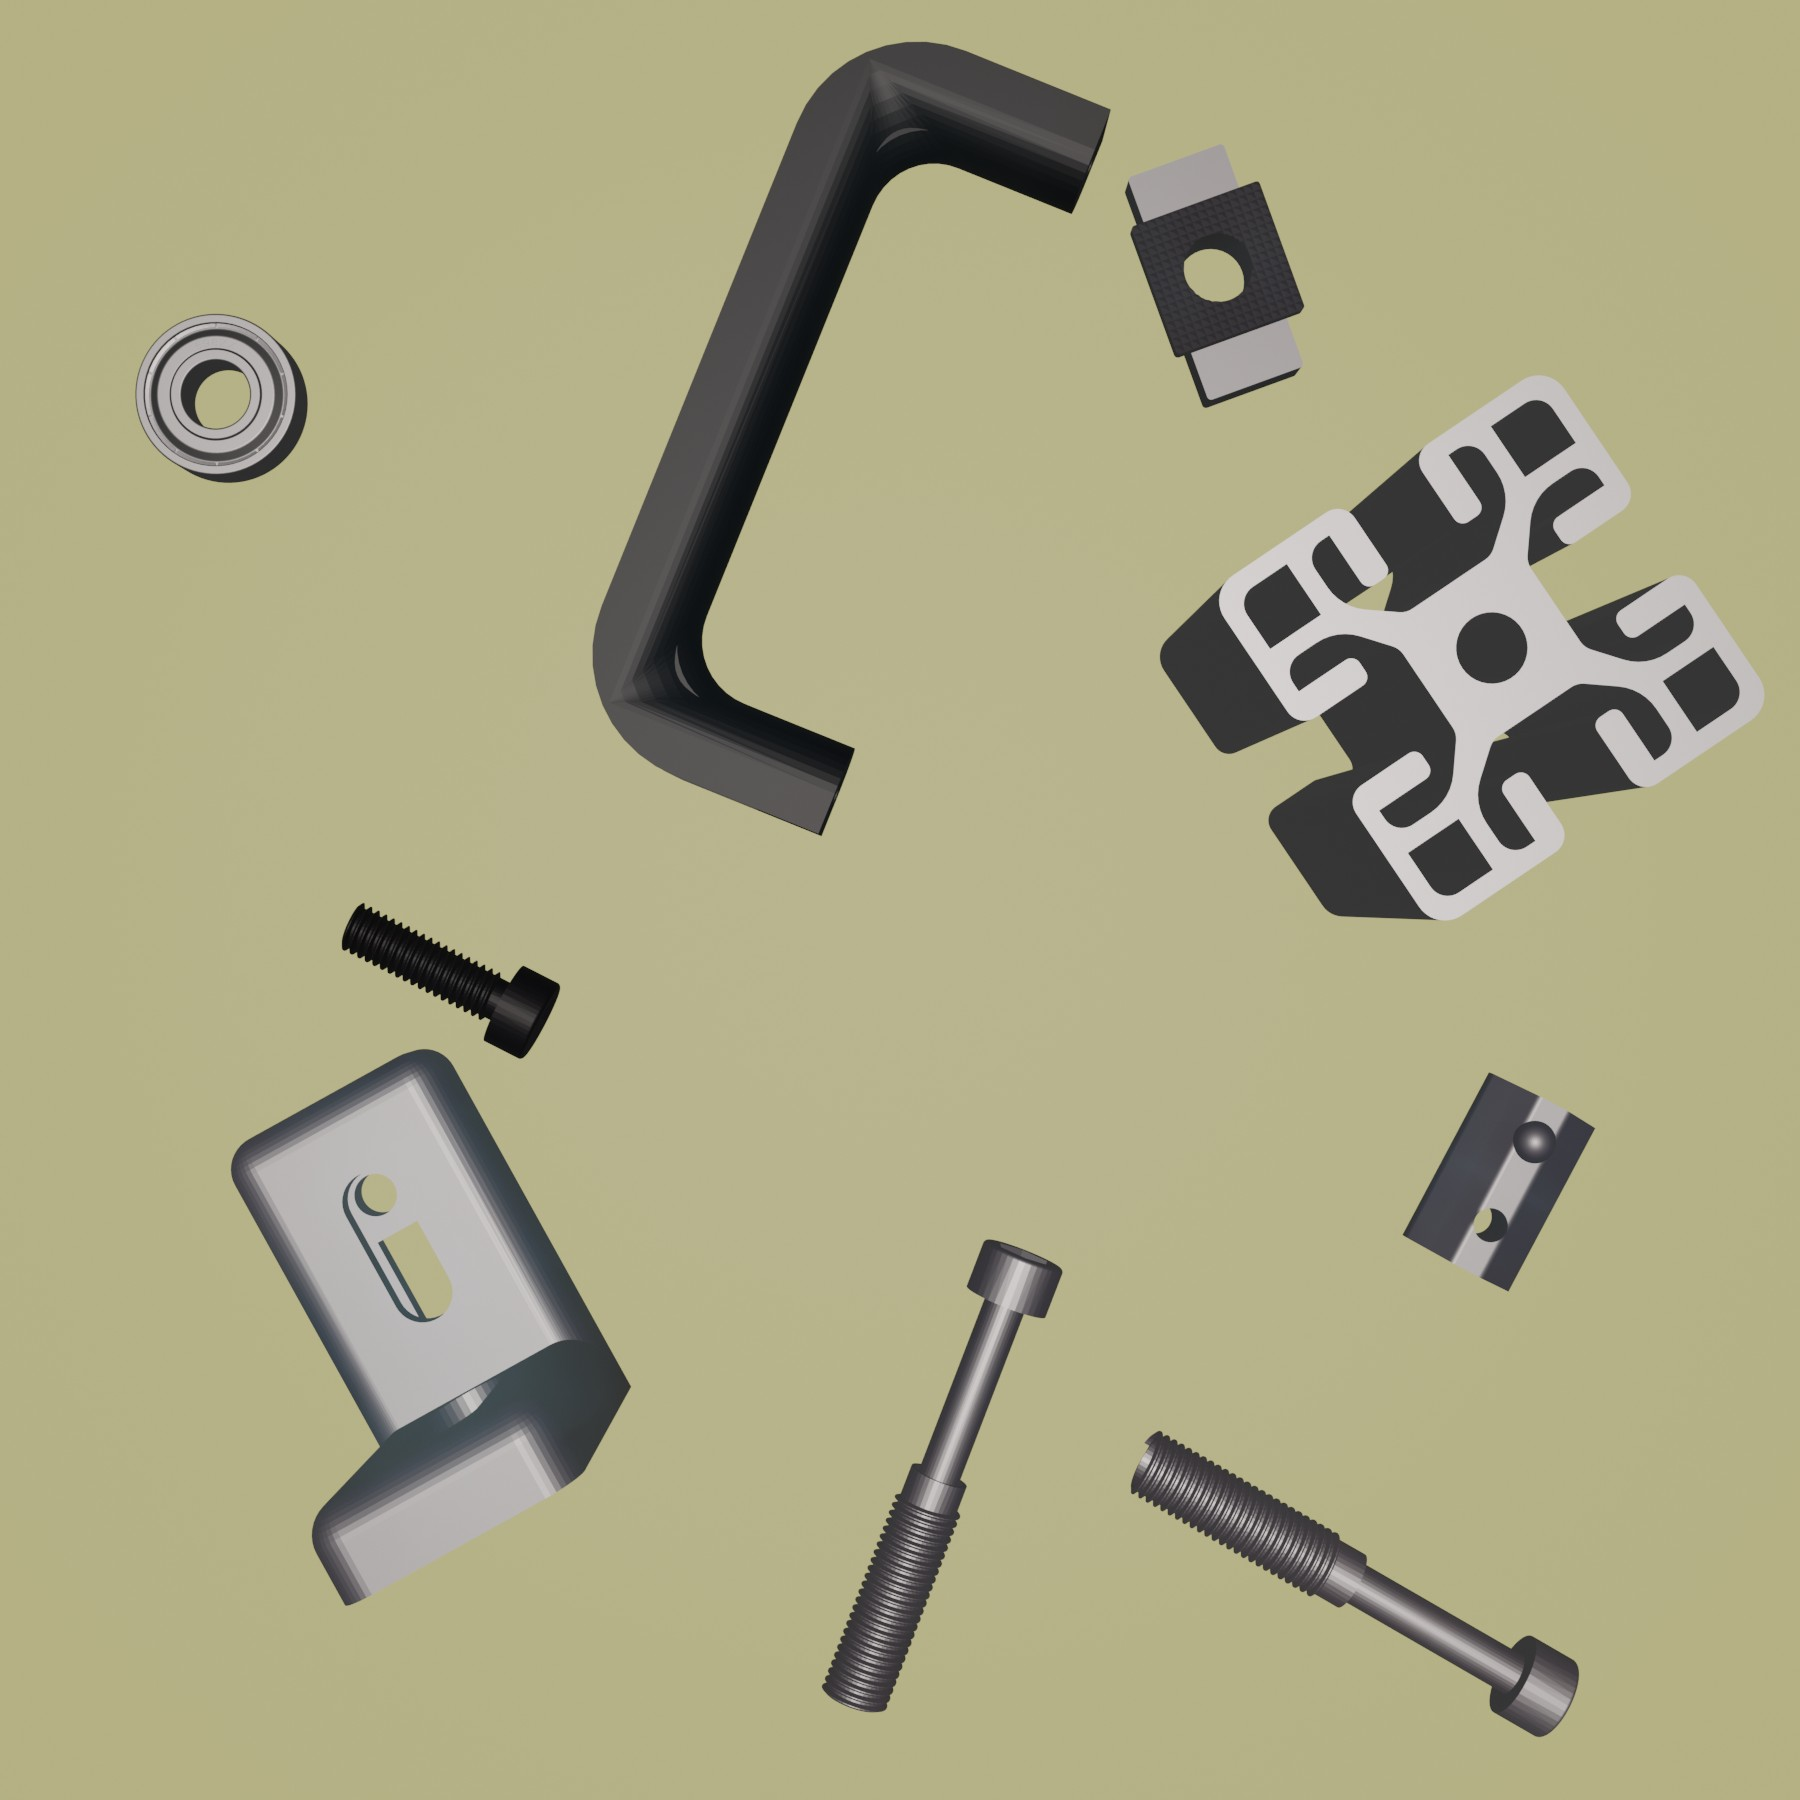Aluminium Extension: (1155, 373, 1769, 928)
Ball Bearing: (132, 308, 308, 485)
Multiwinkel: (227, 1047, 631, 1607)
Pull Handle: (592, 36, 1113, 839)
Shoulder Socket Head Cap Screw: (1124, 1431, 1582, 1739), (819, 1235, 1065, 1716)
Socket Head Cap Screw: (338, 898, 564, 1062)
T Nut Square: (1124, 138, 1305, 412)
T Spring Nut: (1399, 1070, 1597, 1296)
